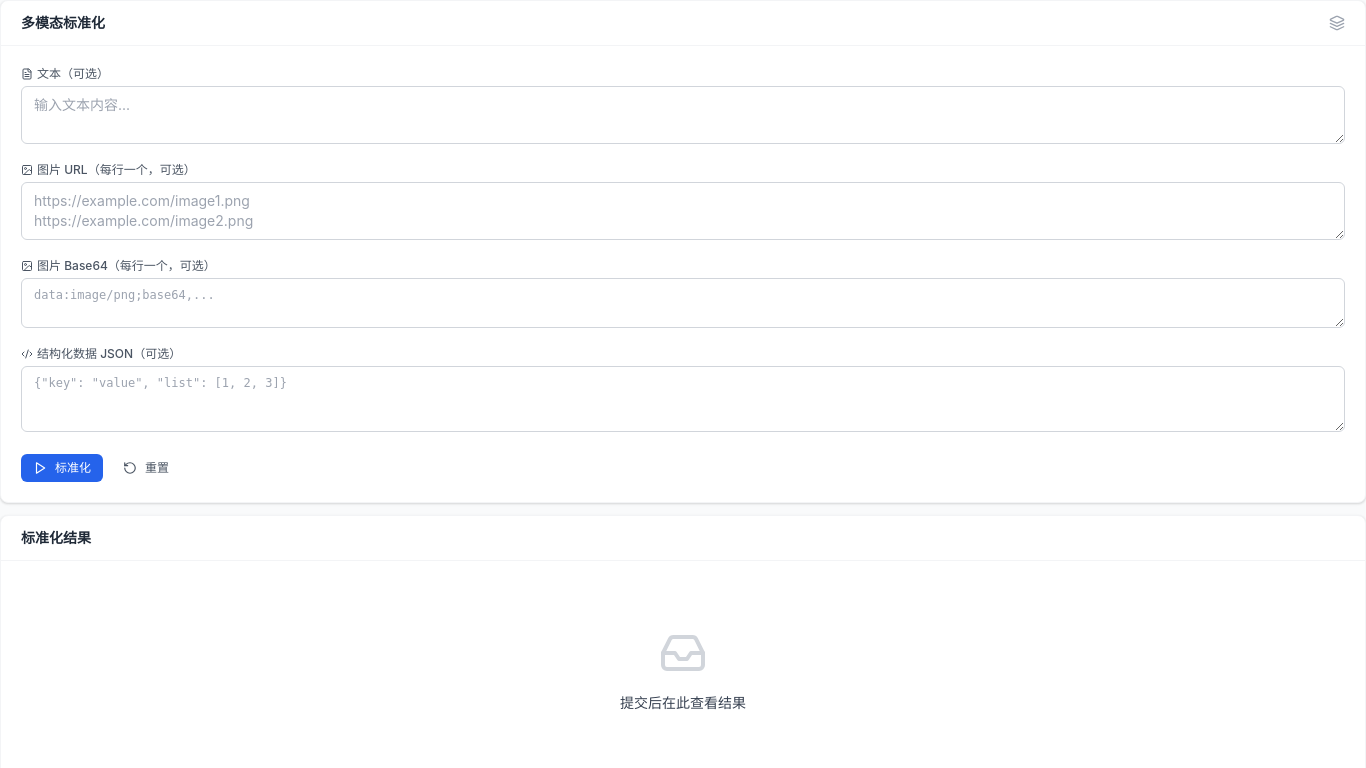
Test: MultimodalNormalizerPanel › 空输入提交显示验证错误
Click the button "标准化".
click(62, 468)  # box [21,454,103,482]
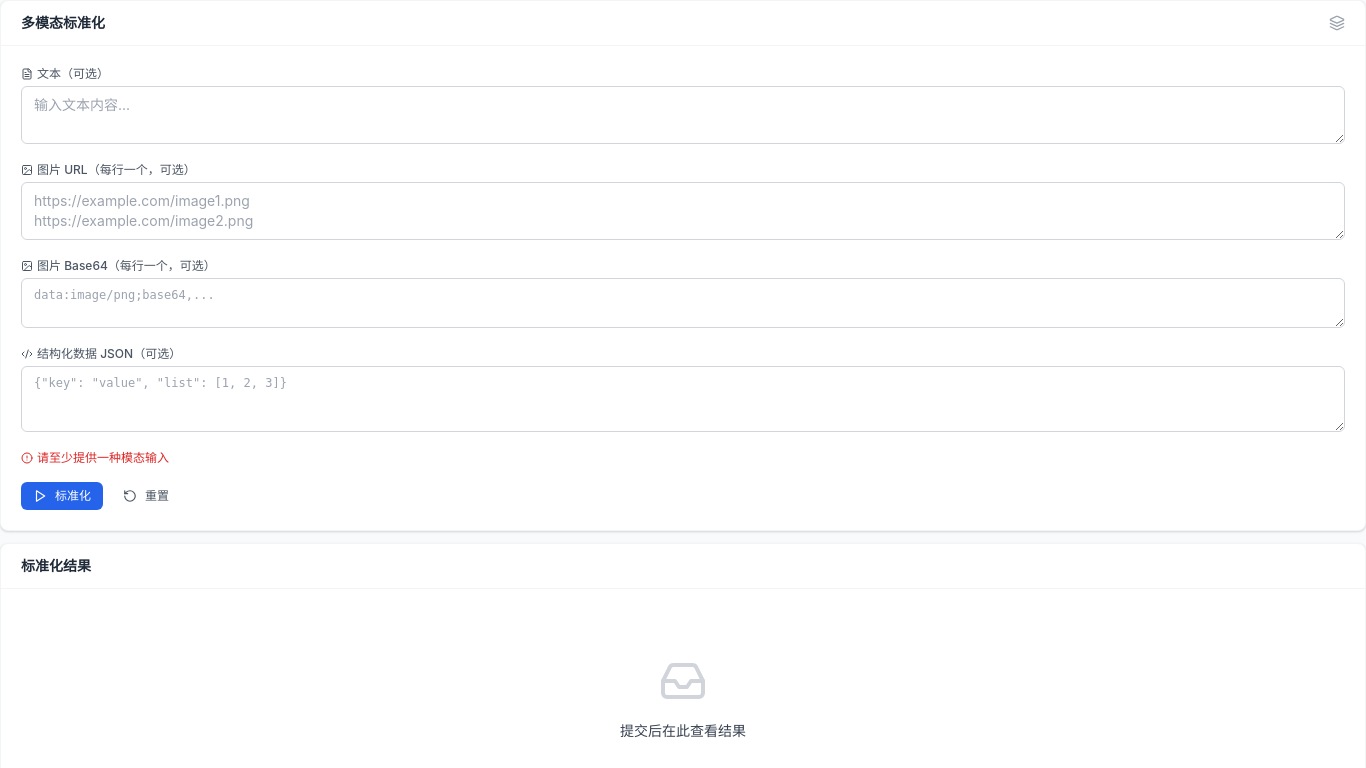
Expected: the text "请至少提供一种模态输入" is shown, [37,450,169,466]
